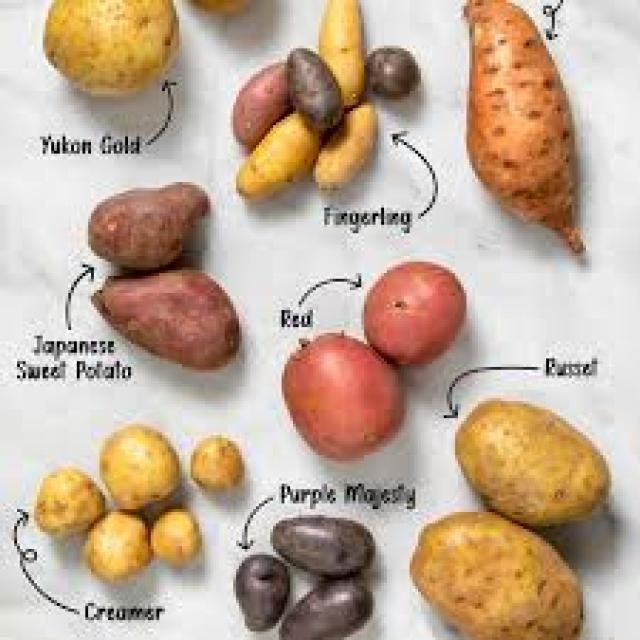Potato: (457, 9, 610, 272), (379, 477, 608, 640), (269, 327, 417, 486), (462, 388, 612, 540), (84, 267, 267, 388), (46, 2, 202, 113), (88, 172, 227, 272), (93, 416, 200, 511), (30, 458, 109, 535), (87, 500, 151, 589), (140, 513, 218, 586)
